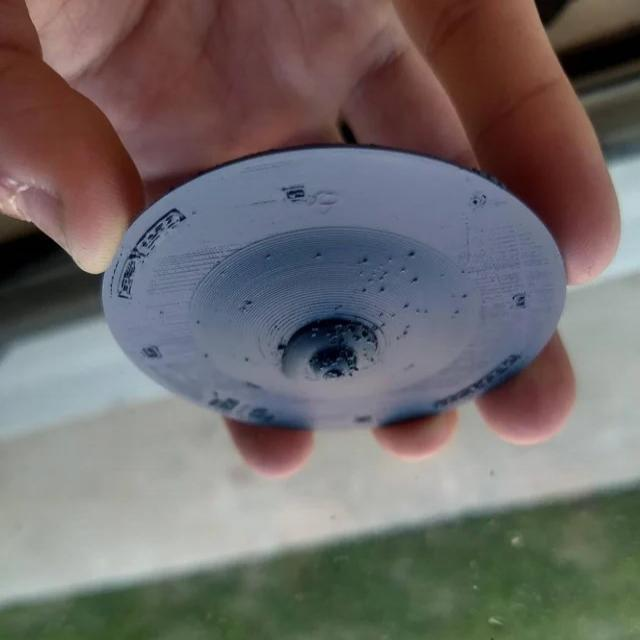zits: (402, 250, 418, 260), (275, 341, 286, 355), (399, 302, 411, 314), (407, 276, 421, 286), (398, 328, 412, 338), (361, 328, 372, 340), (359, 256, 372, 266), (375, 286, 389, 294), (358, 286, 372, 294), (260, 253, 274, 261), (313, 251, 324, 261), (398, 266, 408, 274), (412, 308, 422, 316), (459, 293, 469, 301), (452, 308, 461, 316), (244, 298, 251, 308), (378, 322, 388, 329)
